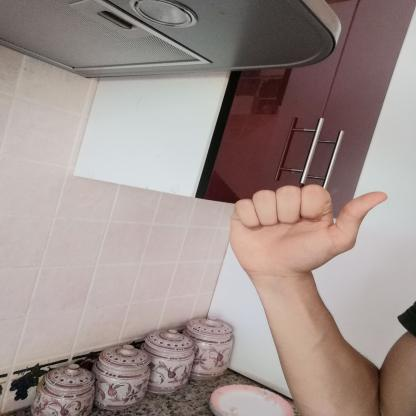DAD: (219, 177, 397, 282)
